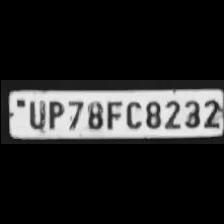2: (200, 98, 222, 128), (161, 98, 181, 130)
3: (182, 97, 200, 128)
7: (64, 97, 82, 130)
8: (82, 98, 104, 130), (142, 99, 162, 129)
C: (122, 97, 142, 128)
F: (103, 98, 121, 130)
P: (42, 98, 64, 130)
U: (24, 98, 46, 130)
